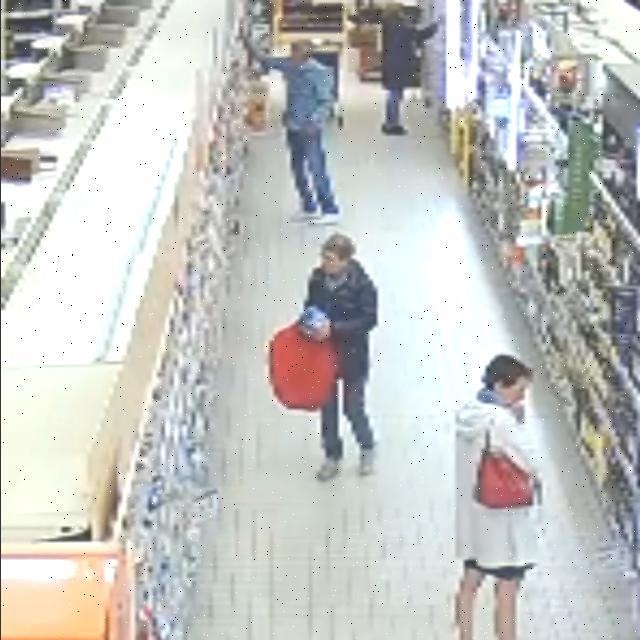article: (299, 306, 325, 336)
bags: (269, 323, 338, 411), (476, 431, 535, 509)
hands: (314, 321, 331, 341), (239, 20, 251, 48), (512, 403, 525, 422), (303, 123, 319, 136), (436, 14, 446, 28)
person: (456, 355, 539, 639), (305, 234, 377, 481), (244, 36, 339, 223), (382, 4, 439, 135)
